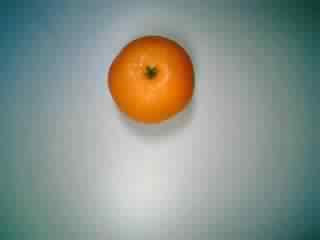orange: (104, 33, 199, 126)
